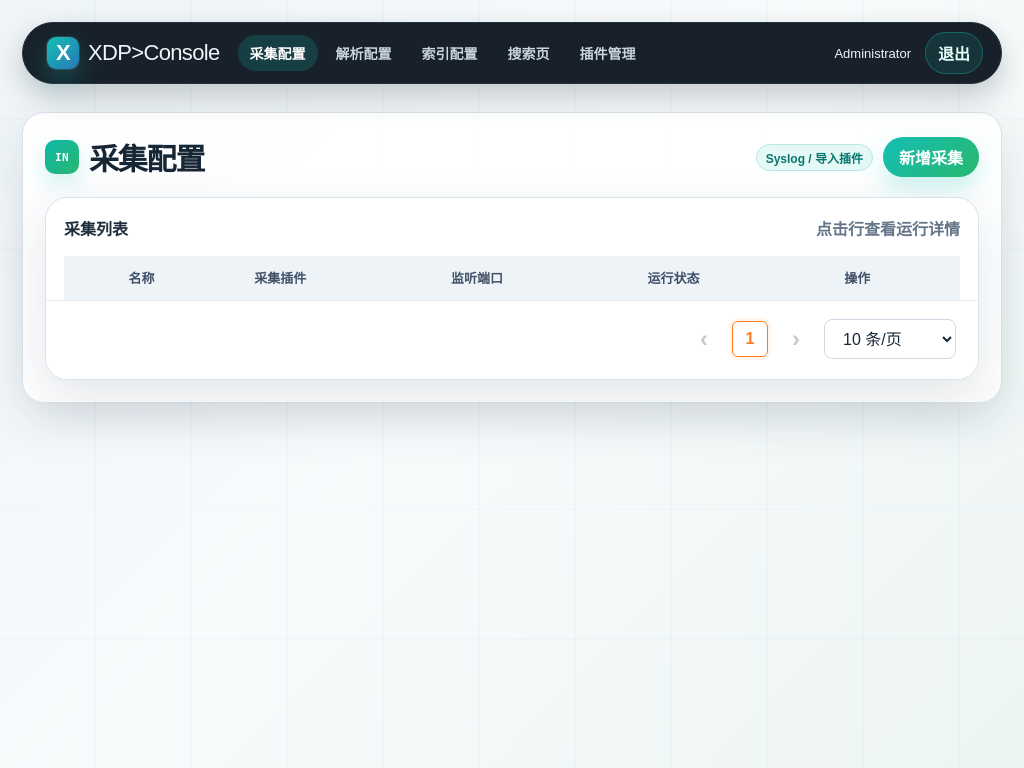
Test: XDP P3 vue-router module navigation › updates the route when clicking top navigation
What coordinates should you click on to do the following:
click the button with test id "nav-parse"
I would click on:
 (364, 53)
Its box is [324,35,404,71].
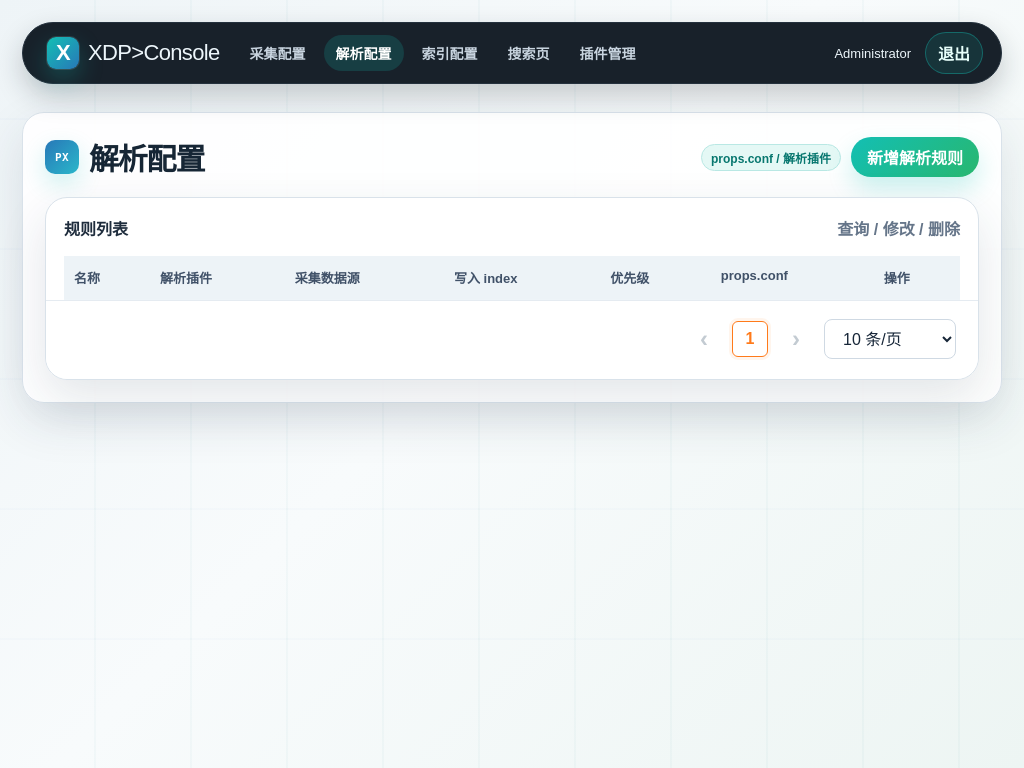
Now the element with test id "parse-page" is shown, box [45,135,979,380]
